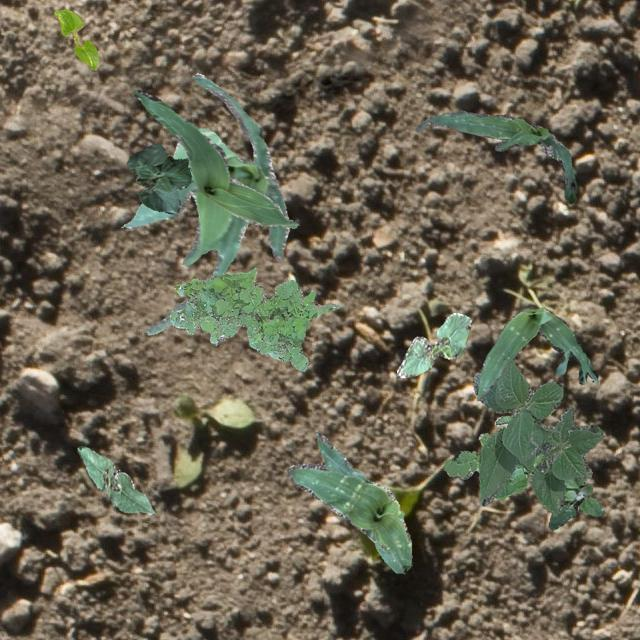crop: (122, 72, 288, 334), (132, 89, 298, 228), (472, 360, 604, 514), (286, 432, 412, 572), (414, 110, 576, 202), (476, 306, 596, 400), (76, 444, 154, 514), (396, 312, 470, 376), (126, 142, 190, 212), (52, 8, 98, 68)
weed: (168, 266, 338, 371), (443, 414, 542, 498), (548, 476, 604, 530)
